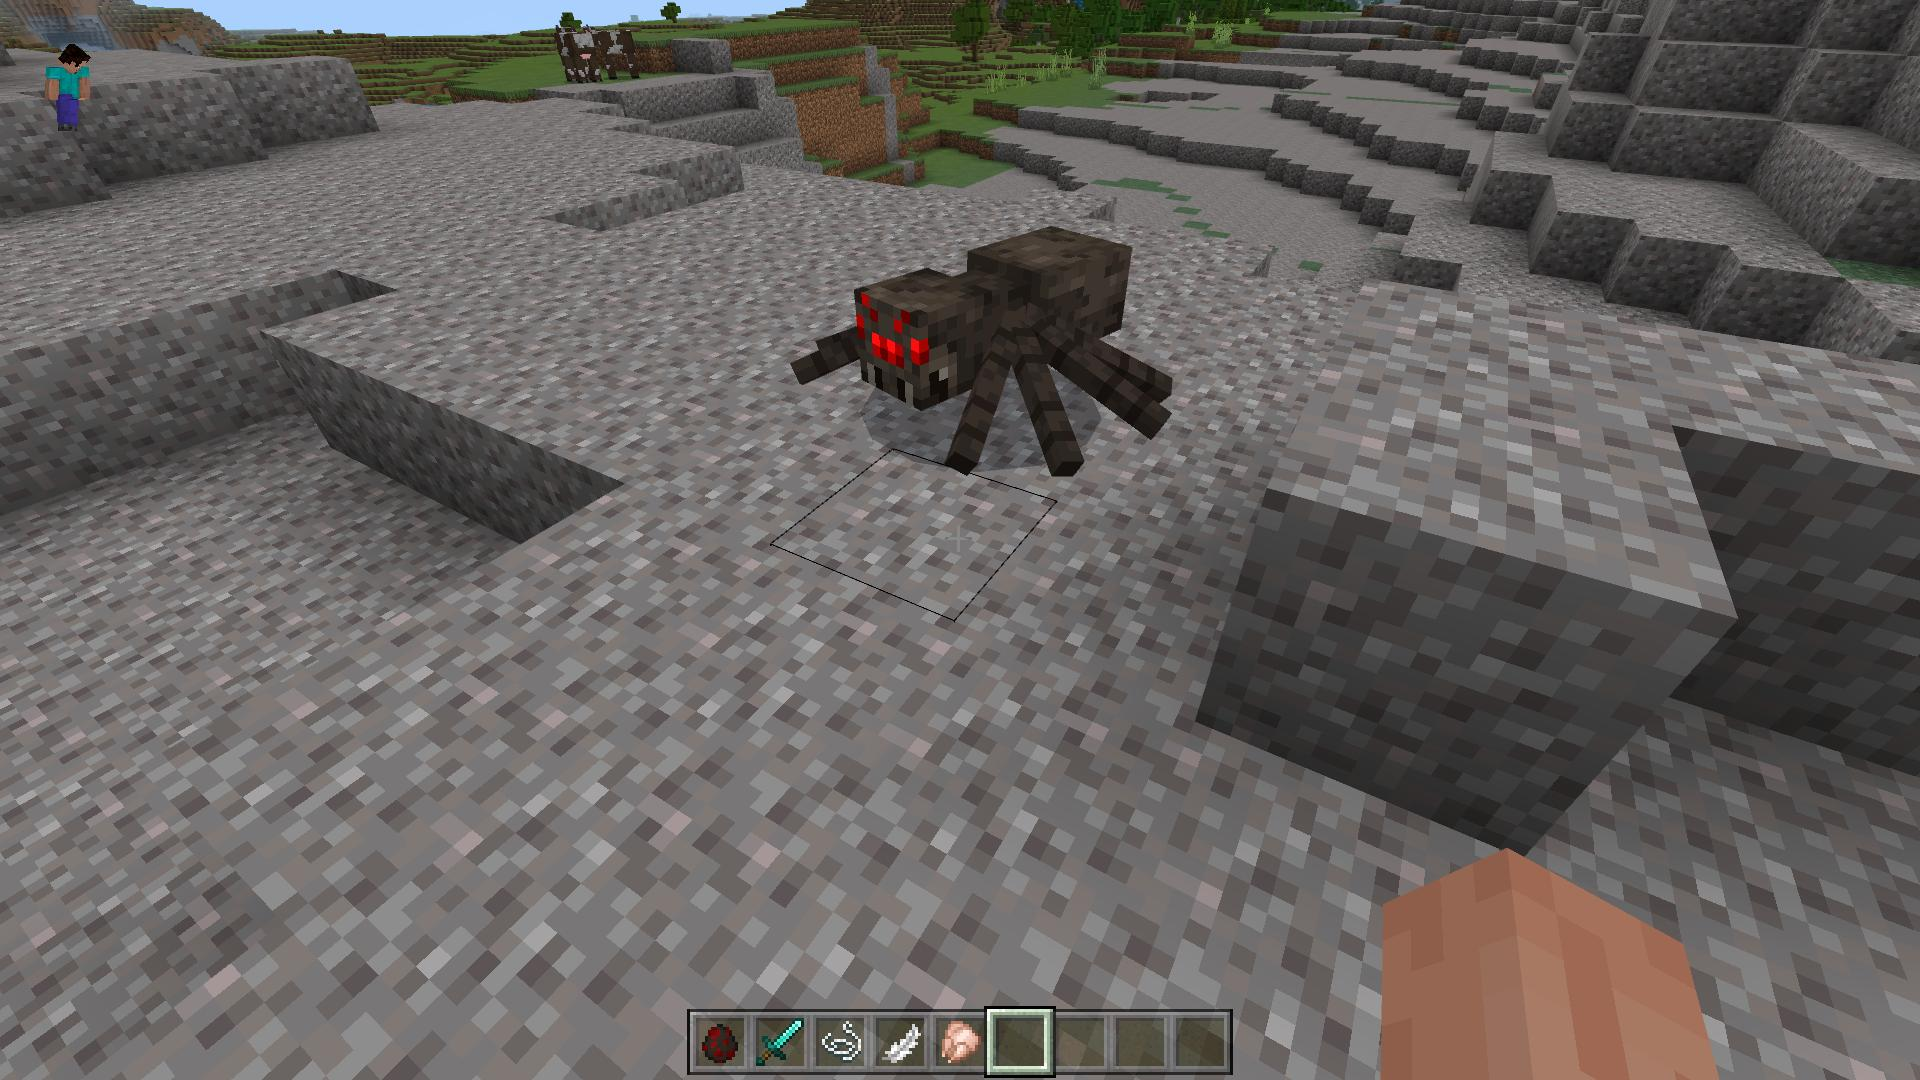spider: (795, 222, 1175, 479)
